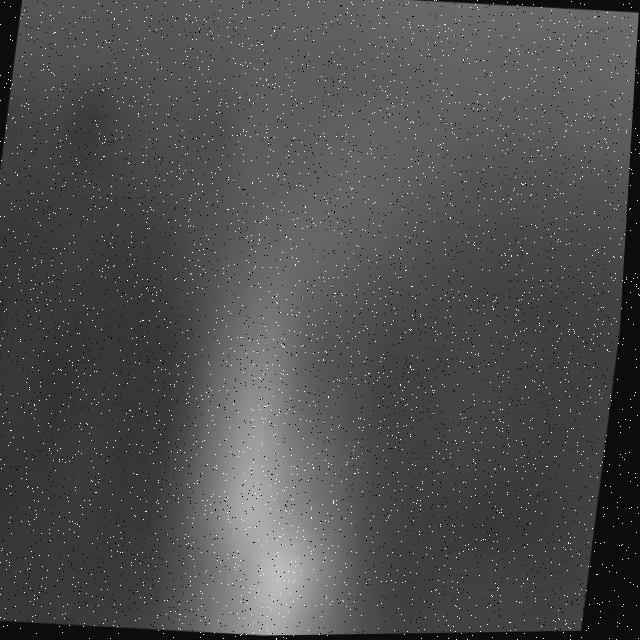person: (148, 169, 425, 639)
